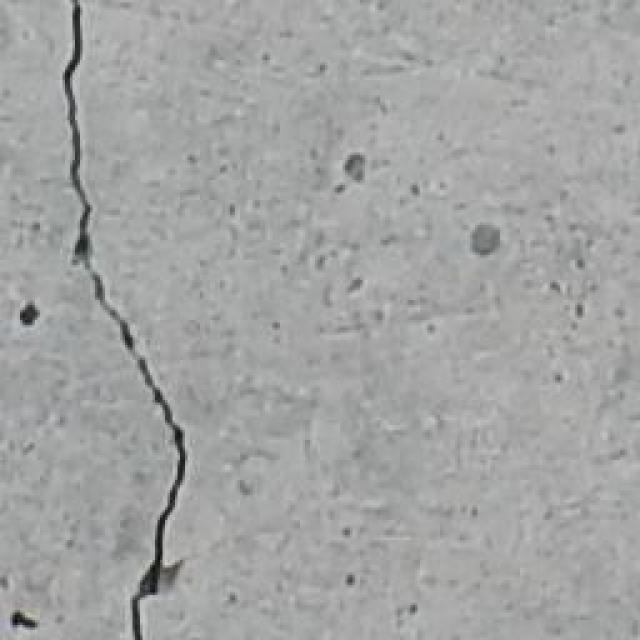concrete-crack: (58, 0, 185, 640)
